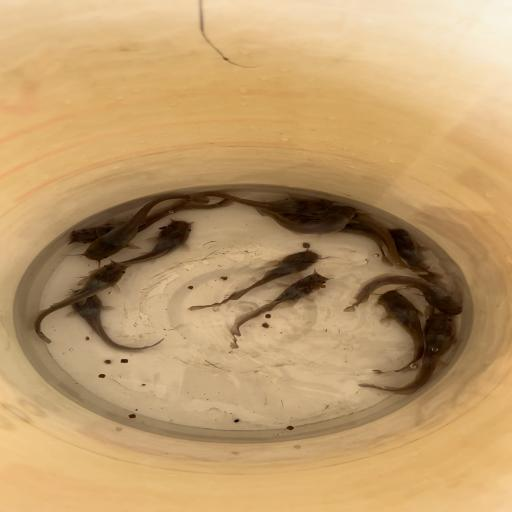lele: (77, 192, 212, 265), (183, 250, 323, 314), (30, 260, 130, 349), (356, 314, 463, 396), (76, 219, 194, 289), (224, 272, 330, 349), (65, 199, 240, 245), (64, 289, 166, 351), (289, 214, 394, 266), (339, 272, 463, 316), (387, 226, 446, 314), (369, 289, 427, 375), (190, 190, 334, 216), (248, 206, 356, 234), (356, 208, 404, 268)
